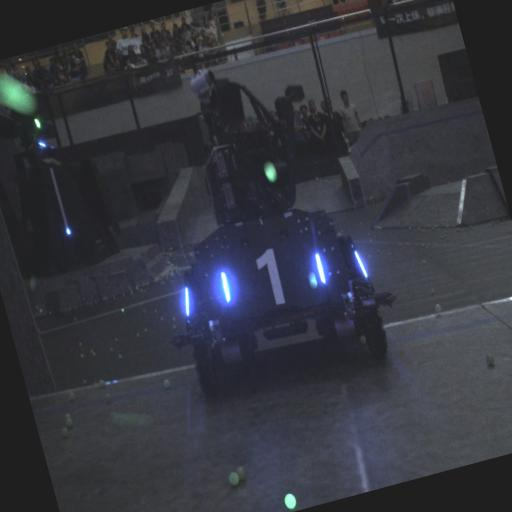target: (200, 219, 340, 334)
